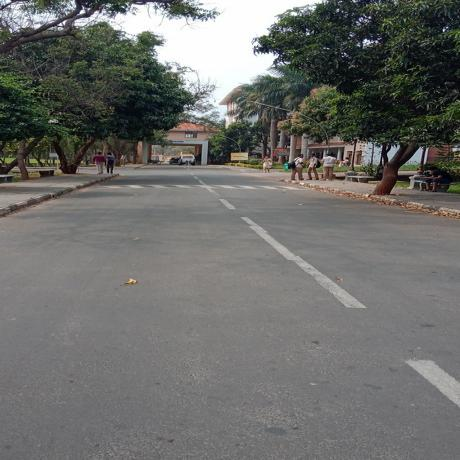Speed Bump: (86, 184, 309, 192)
